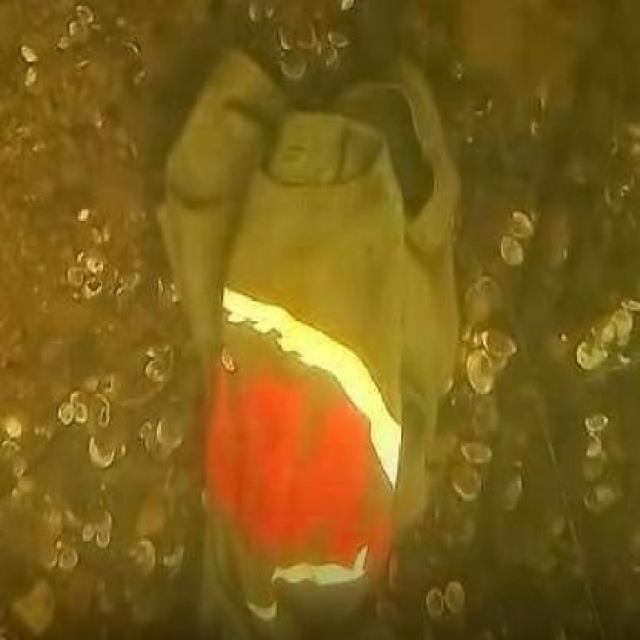Accessories: (150, 49, 458, 640)
